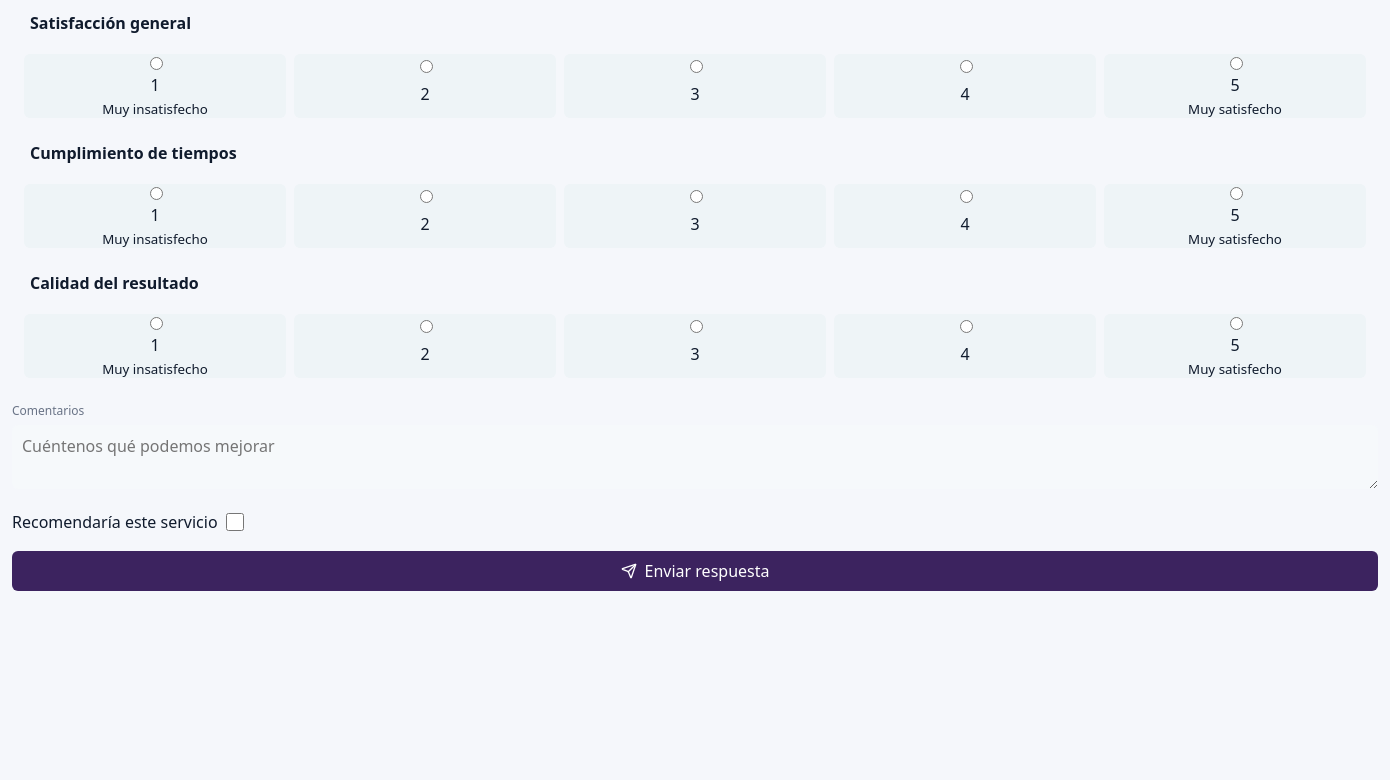
SatisfactionForm › expone escalas accesibles y valida las tres respuestas
Click the button "Enviar respuesta": (695, 571) [12, 551, 1378, 591]
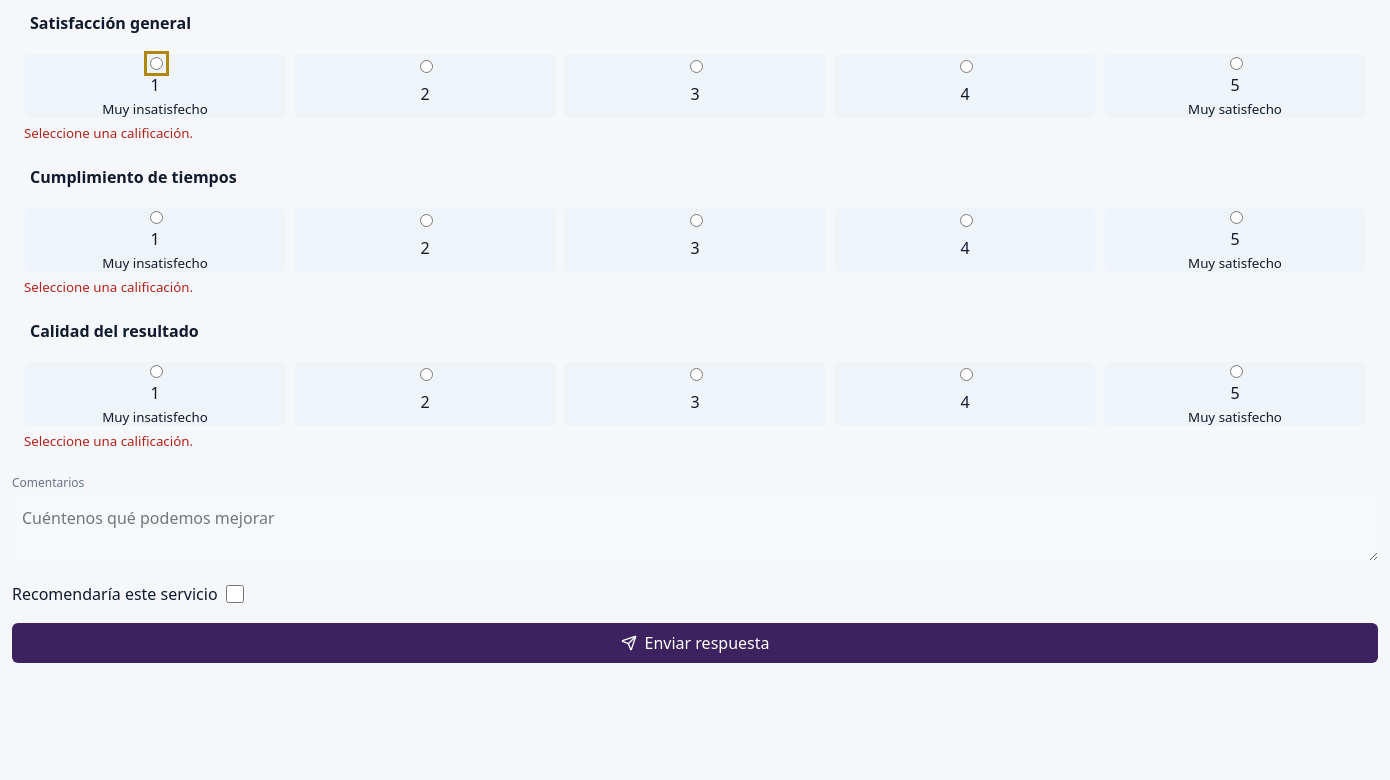
Now the number of messages is 3, box [24, 124, 193, 142]; [24, 278, 193, 296]; [24, 432, 193, 450]
